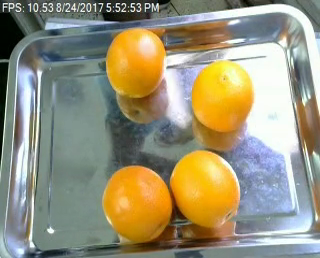Orange: (169, 148, 241, 227), (101, 165, 173, 242), (190, 59, 253, 132), (105, 27, 166, 98)
